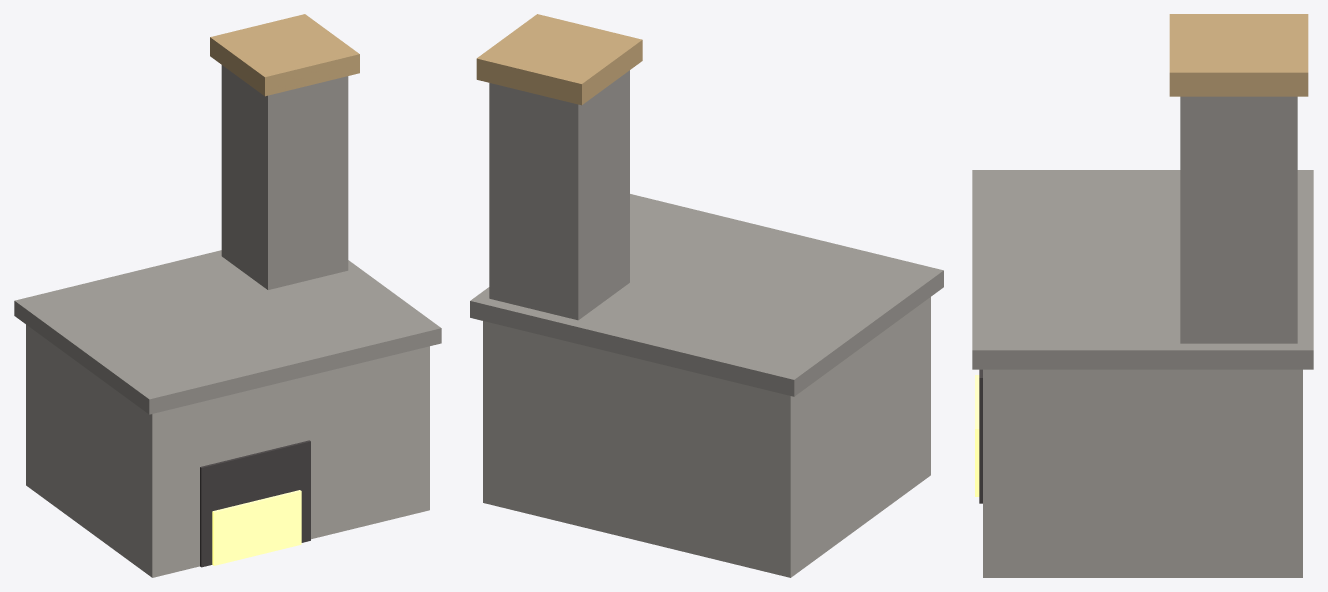
3 views of the same model, side by side, from view 1: azimuth 30°, elevation 25°; view 2: azimuth 150°, elevation 25°; view 3: azimuth 270°, elevation 25° (orthographic). The views are drawn at different scales.
Visible parts, largest first — view 1: body; view 2: body; view 3: body.
Boxes of the visible parts, left/top/right/bottom form: body: left=14, top=14, right=441, bottom=577; body: left=470, top=14, right=943, bottom=577; body: left=972, top=14, right=1313, bottom=577.
Bounding box in the file's own units: 8 × 10.5 × 6.4.
